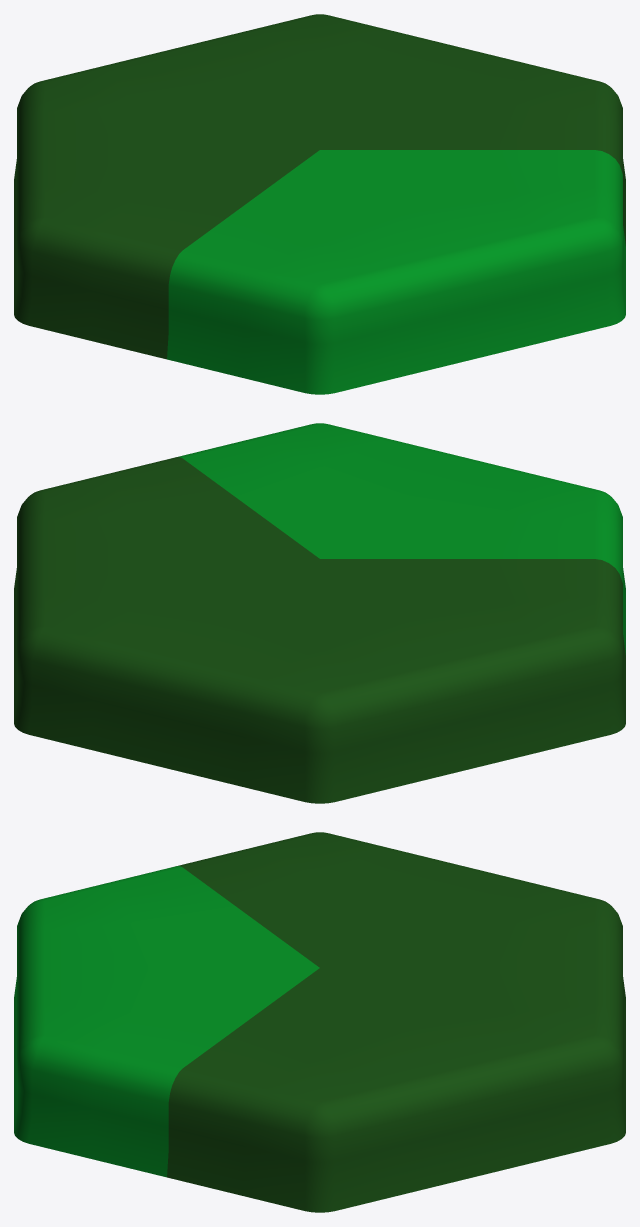
The model's file is C_B_esquina.fbx.
3 views of the same model, one above another, from view 1: azimuth 30°, elevation 25°; view 2: azimuth 150°, elevation 25°; view 3: azimuth 270°, elevation 25° (orthographic).
Visible parts, largest first — view 1: Cylinder; view 2: Cylinder; view 3: Cylinder.
Part boxes in pixels (box(x1,y1,x2,y2)): Cylinder: box(14, 14, 625, 394); Cylinder: box(14, 423, 625, 803); Cylinder: box(14, 832, 625, 1212).
Bounding box in the file's own units: 207 × 31.94 × 182.
